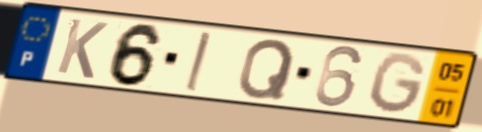6: (104, 21, 167, 89), (313, 44, 365, 110)
G: (367, 51, 429, 117)
I: (182, 29, 214, 94)
K: (53, 16, 111, 82)
Q: (235, 37, 298, 101)
